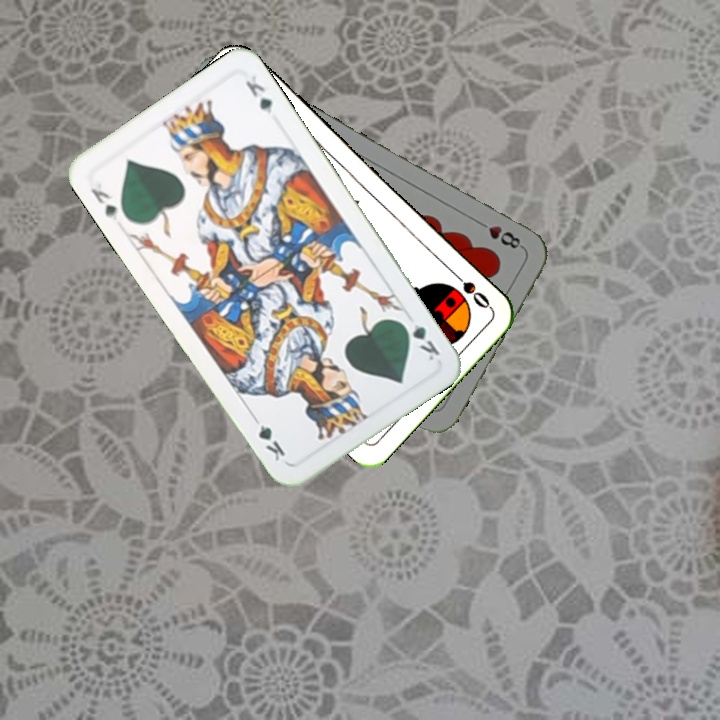GK: (396, 316, 442, 364), (87, 176, 120, 224)
H8: (472, 216, 526, 252)
SO: (446, 265, 494, 311)
